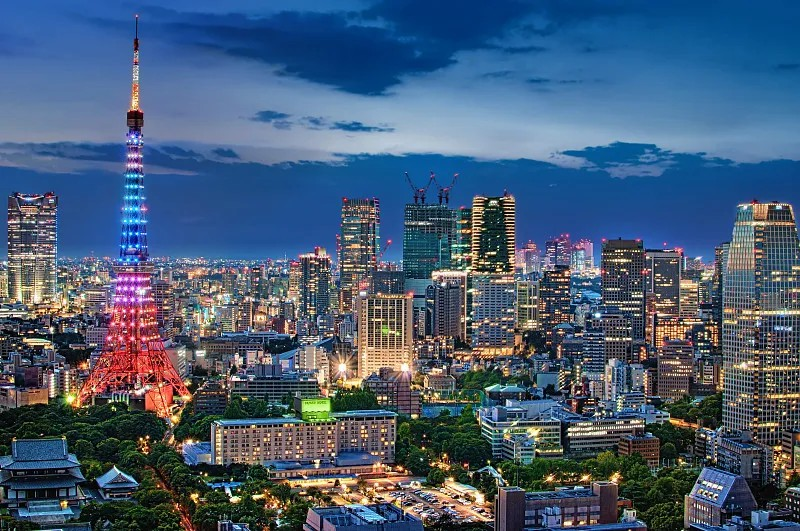Tokyo: (65, 13, 191, 424)
